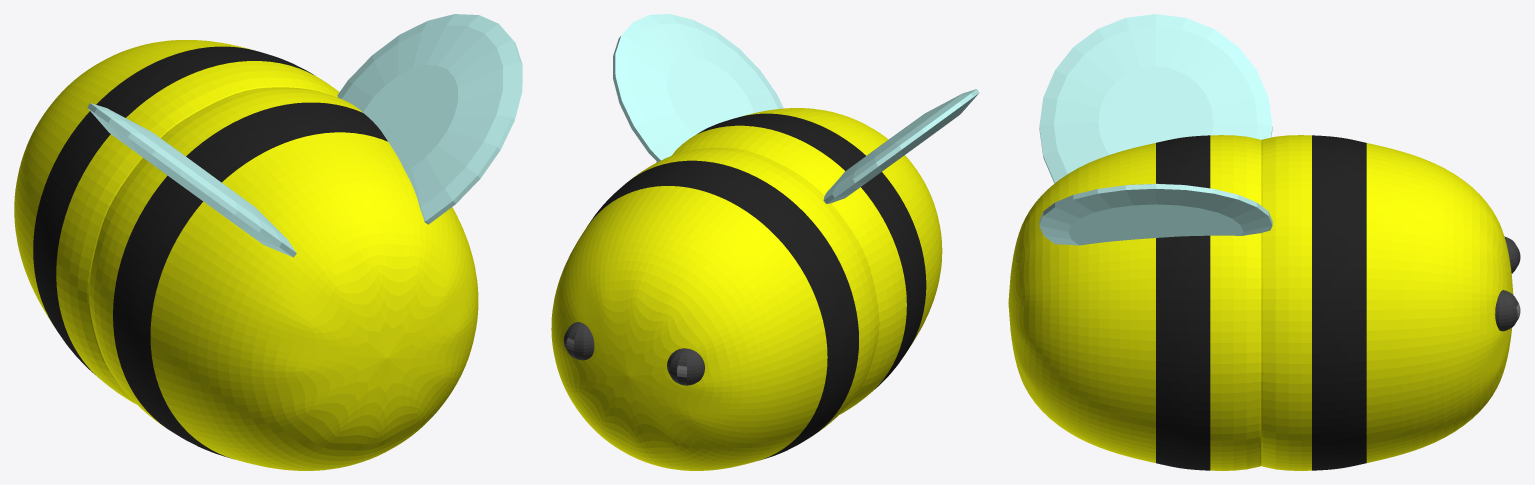
Rendered from Bee.fbx.
The picture shows the model from 3 angles, left to right: view 1: azimuth 30°, elevation 25°; view 2: azimuth 150°, elevation 25°; view 3: azimuth 270°, elevation 25°; orthographic projection. The views are drawn at different scales.
Parts seen in each view (by area): view 1: Body, Wings; view 2: Body, Wings, Eyes; view 3: Body, Wings, Eyes.
Part boxes in pixels (left/top/right/bottom): Body: left=14, top=40, right=478, bottom=470; Wings: left=87, top=14, right=522, bottom=257; Body: left=551, top=108, right=942, bottom=470; Wings: left=613, top=14, right=979, bottom=203; Eyes: left=563, top=322, right=704, bottom=385; Body: left=1008, top=135, right=1513, bottom=470; Wings: left=1039, top=14, right=1272, bottom=245; Eyes: left=1495, top=236, right=1520, bottom=331.
Bounding box in the file's own units: 231 × 223 × 290.
